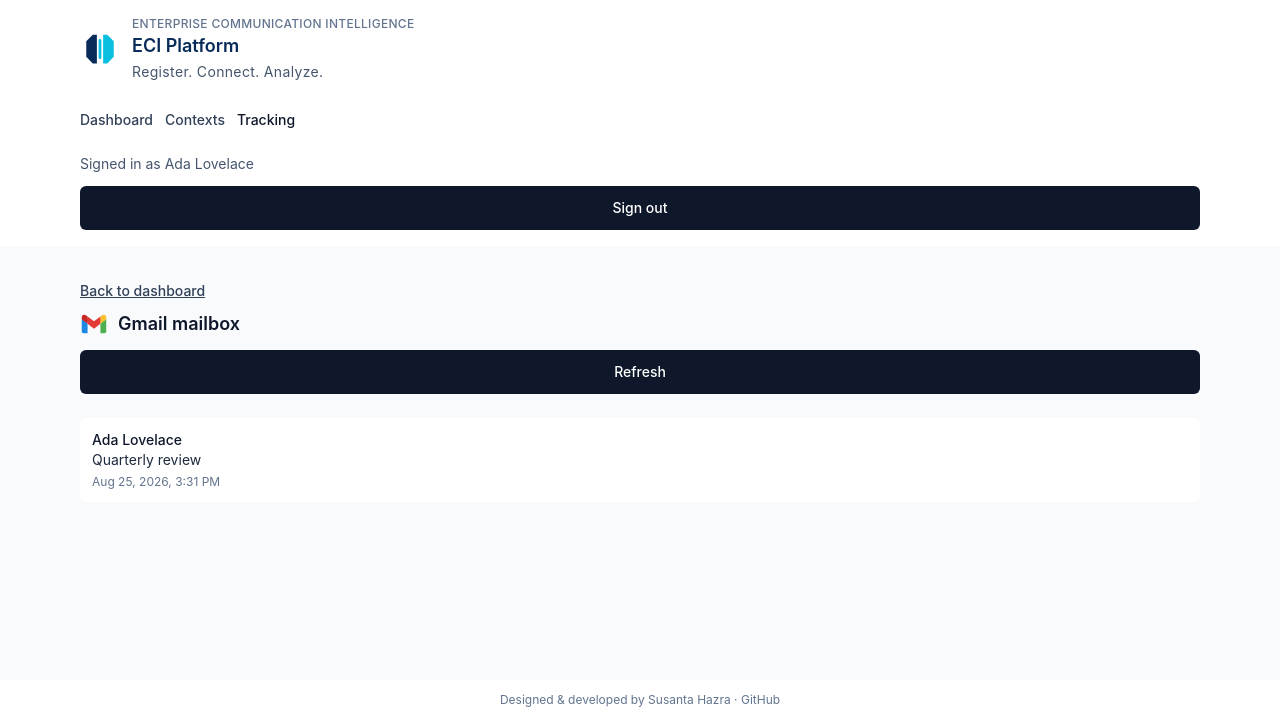
Test: workflow proposal › does not propose when analysis_id is missing
Click the button "Ada Lovelace Quarterly review Aug 25, 2026, 3:31 PM" at (137, 440), box top-left (80, 418), bottom-right (1200, 502)
(page scrolled)
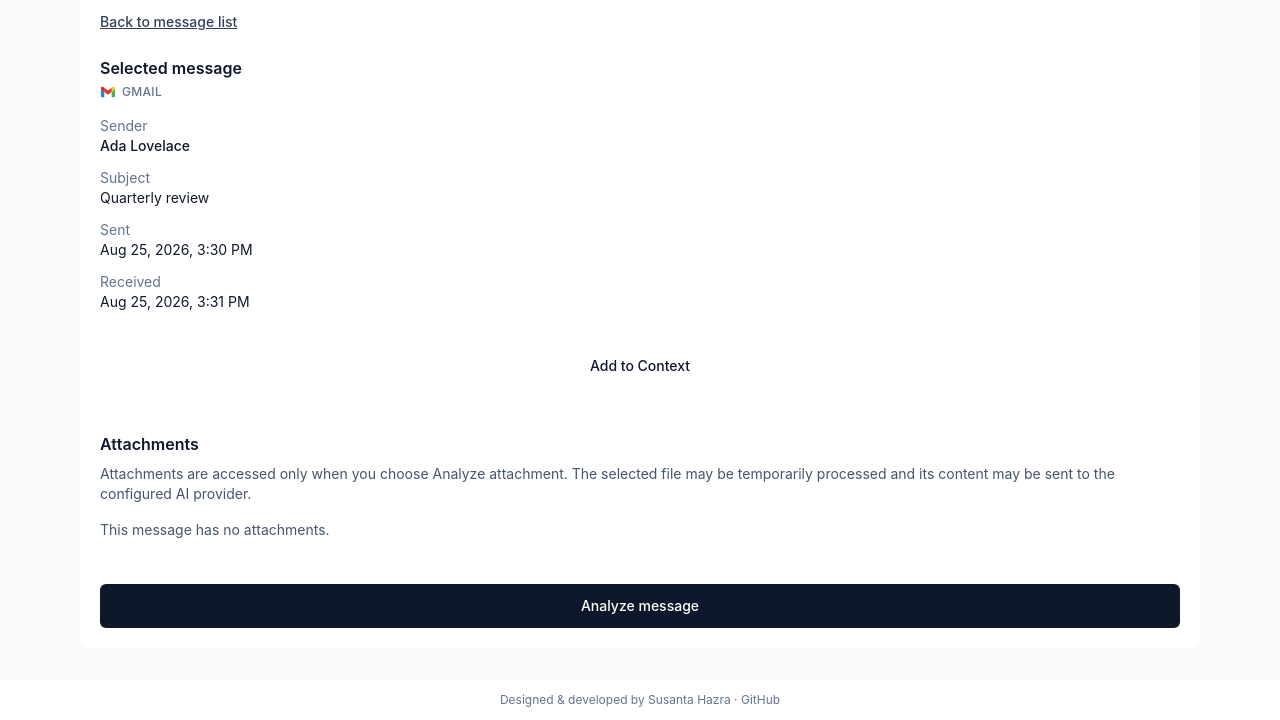
Click the button "Analyze message" at (640, 606), box top-left (100, 584), bottom-right (1180, 628)
(page scrolled)
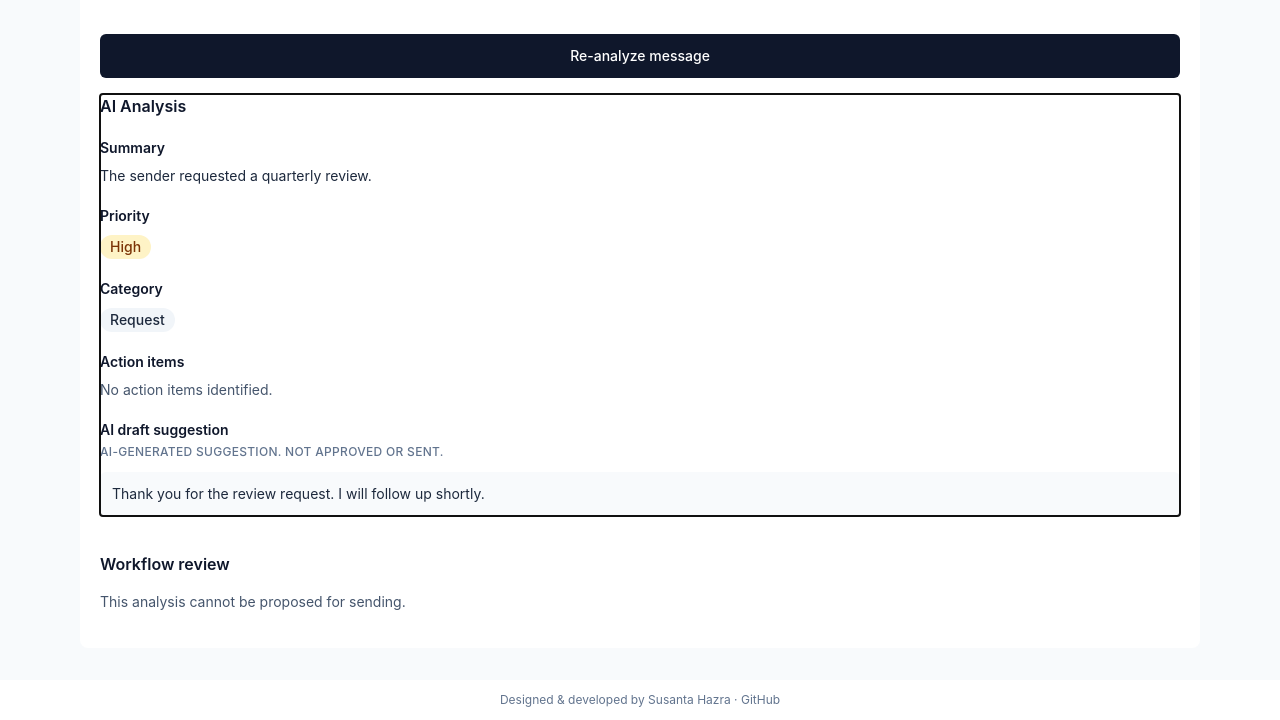
Expected: the heading "AI Analysis" is shown, top-left (100, 96), bottom-right (186, 116)
Expected: the text "This analysis cannot be proposed for sending." is shown, top-left (100, 593), bottom-right (406, 610)
